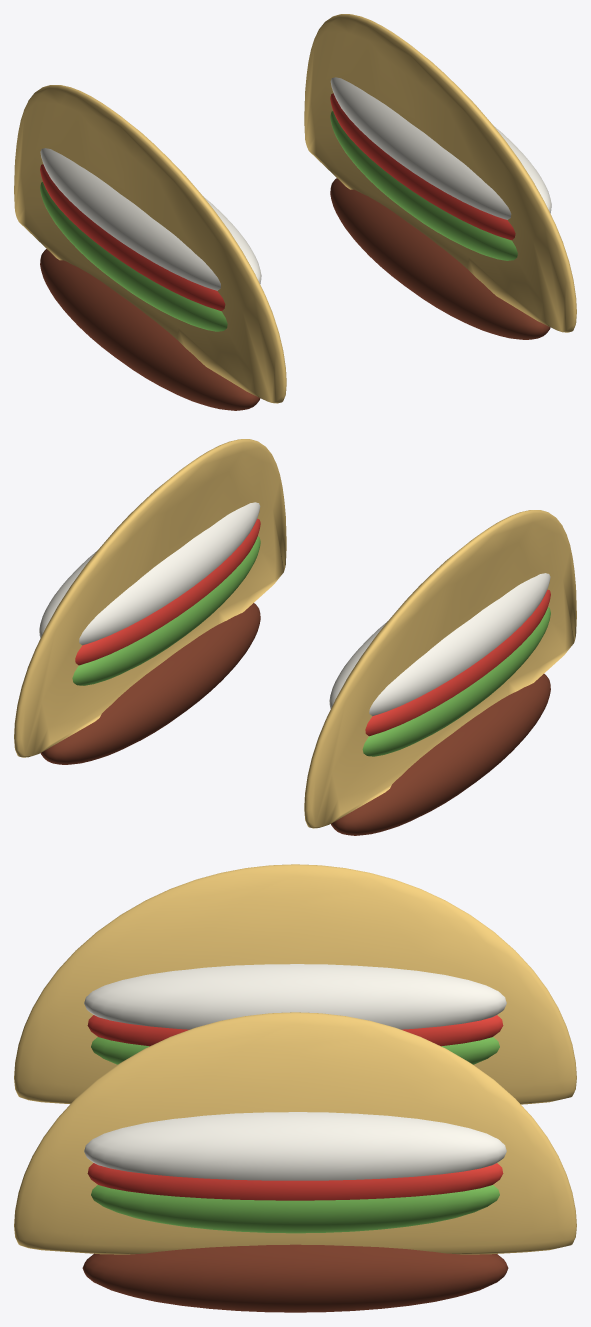
The model's file is comida_tacos.glb.
3 renders of one model, top to bottom at view 1: azimuth 30°, elevation 25°; view 2: azimuth 150°, elevation 25°; view 3: azimuth 270°, elevation 25°, orthographic. The views are drawn at different scales.
Parts seen in each view (by area): view 1: tortilla 0.001, tortilla 1.001, relleno taco 1 0.001, relleno taco 0 0.001, relleno taco 1 3.001, relleno taco 0 3.001, relleno taco 1 1.001, relleno taco 0 1.001, relleno taco 1 2.001, relleno taco 0 2.001; view 2: tortilla 0.001, tortilla 1.001, relleno taco 0 0.001, relleno taco 1 0.001, relleno taco 0 3.001, relleno taco 1 3.001, relleno taco 1 1.001, relleno taco 0 1.001, relleno taco 0 2.001, relleno taco 1 2.001; view 3: tortilla 1.001, tortilla 0.001, relleno taco 1 3.001, relleno taco 1 0.001, relleno taco 0 3.001, relleno taco 1 1.001, relleno taco 1 2.001, relleno taco 0 2.001, relleno taco 0 1.001.
Boxes of the visible parts, x1,y1,x2,y2 form: tortilla 0.001: [14, 85, 286, 403]; tortilla 1.001: [304, 14, 576, 332]; relleno taco 1 0.001: [330, 178, 550, 339]; relleno taco 0 0.001: [40, 249, 260, 410]; relleno taco 1 3.001: [330, 77, 551, 219]; relleno taco 0 3.001: [40, 148, 261, 290]; relleno taco 1 1.001: [330, 111, 517, 260]; relleno taco 0 1.001: [40, 182, 227, 331]; relleno taco 1 2.001: [330, 93, 515, 240]; relleno taco 0 2.001: [40, 164, 225, 310]; tortilla 0.001: [304, 510, 576, 828]; tortilla 1.001: [14, 439, 286, 757]; relleno taco 0 0.001: [331, 674, 550, 835]; relleno taco 1 0.001: [40, 603, 260, 764]; relleno taco 0 3.001: [329, 573, 550, 716]; relleno taco 1 3.001: [39, 502, 260, 645]; relleno taco 1 1.001: [72, 536, 260, 685]; relleno taco 0 1.001: [362, 607, 550, 756]; relleno taco 0 2.001: [365, 589, 550, 736]; relleno taco 1 2.001: [75, 518, 260, 665]; tortilla 1.001: [14, 1012, 576, 1254]; tortilla 0.001: [14, 864, 576, 1104]; relleno taco 1 3.001: [84, 1112, 506, 1180]; relleno taco 1 0.001: [82, 1244, 508, 1312]; relleno taco 0 3.001: [84, 964, 506, 1029]; relleno taco 1 1.001: [91, 1185, 499, 1233]; relleno taco 1 2.001: [87, 1163, 503, 1200]; relleno taco 0 2.001: [87, 1015, 503, 1046]; relleno taco 0 1.001: [91, 1037, 499, 1064].
Size of the model in its own units: 0.2087 by 0.1384 by 0.2573.
